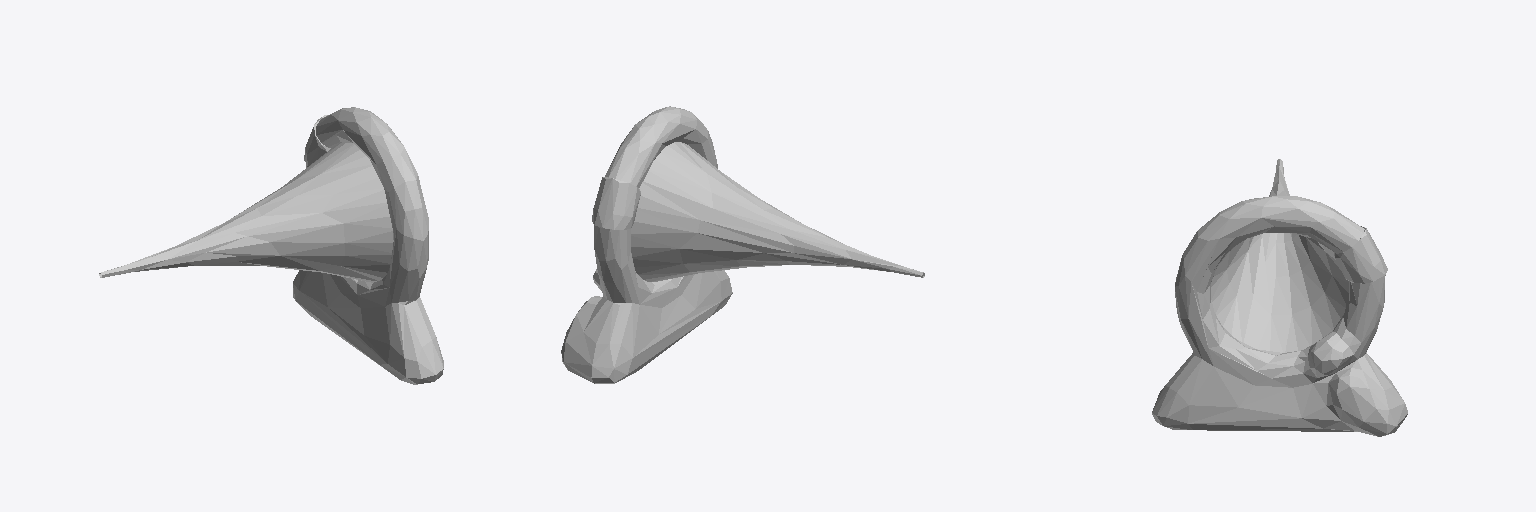
The model's file is portal.obj.
3 views of the same model, side by side, from view 1: azimuth 30°, elevation 25°; view 2: azimuth 150°, elevation 25°; view 3: azimuth 270°, elevation 25° (orthographic).
Visible parts, largest first — view 1: Torus, Cylinder; view 2: Torus, Cylinder; view 3: Torus, Cylinder.
Boxes of the visible parts, box(x1,y1,x2,y2) form: Torus: box(293, 107, 443, 384); Cylinder: box(99, 142, 393, 282); Torus: box(561, 106, 732, 383); Cylinder: box(631, 142, 924, 281); Torus: box(1152, 196, 1407, 436); Cylinder: box(1211, 159, 1348, 352).
Size of the model in its own units: 22.13 by 15.5 by 15.8.